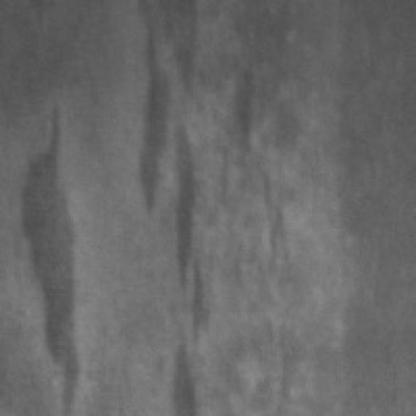inclusion: (138, 0, 215, 339), (21, 96, 88, 412), (227, 58, 270, 177), (166, 320, 206, 412)
